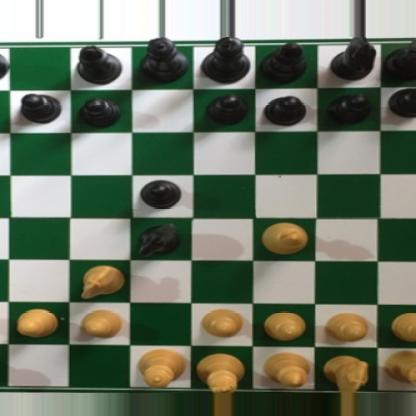black-bishop: (255, 40, 306, 82), (75, 46, 126, 85)
black-king: (199, 37, 250, 83)
black-knight: (330, 37, 379, 82), (132, 221, 181, 258)
black-pawn: (70, 95, 119, 127), (136, 176, 182, 210), (325, 94, 369, 127), (204, 95, 247, 128), (261, 95, 306, 126), (17, 92, 61, 122), (387, 84, 416, 116)
black-queen: (135, 37, 189, 83)
black-rook: (381, 37, 416, 83), (0, 39, 10, 83)
white-bishop: (259, 216, 315, 257), (264, 348, 314, 389)
white-king: (192, 351, 246, 394)
white-knight: (322, 353, 369, 394), (77, 263, 126, 299)
white-pawn: (12, 306, 61, 341), (262, 311, 310, 345), (199, 307, 245, 340), (76, 308, 124, 339), (324, 313, 370, 341), (387, 312, 416, 342)
white-queen: (132, 346, 186, 390)
white-rook: (382, 349, 416, 390)
